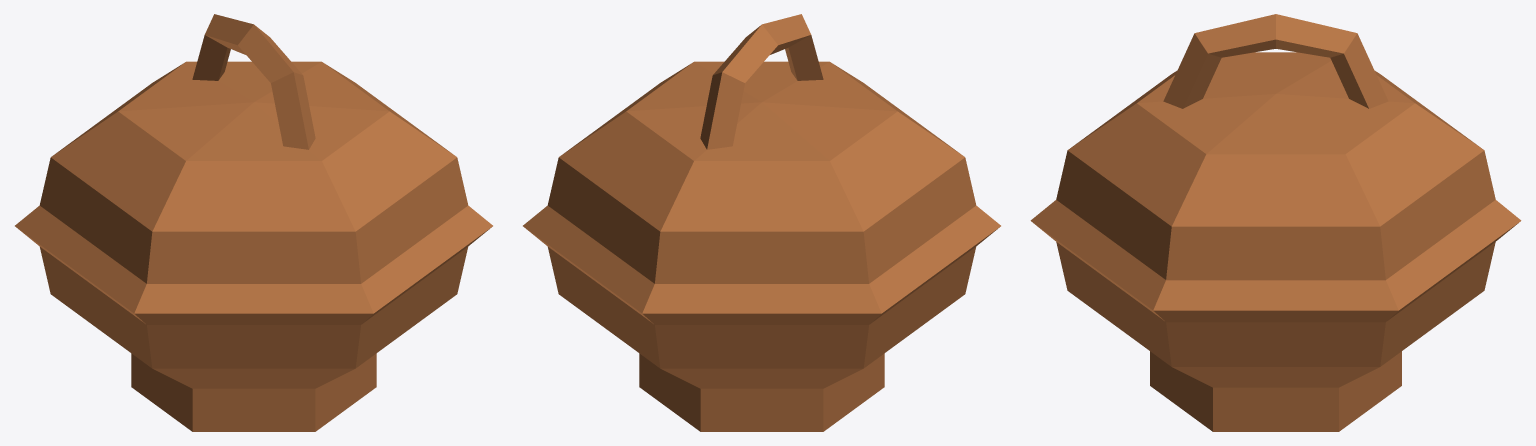
File: SM_Prop_Copper_Pot_Small_01.glb
3 views of the same model, side by side, from view 1: azimuth 30°, elevation 25°; view 2: azimuth 150°, elevation 25°; view 3: azimuth 270°, elevation 25° (orthographic). The views are drawn at different scales.
Parts seen in each view (by area): view 1: SM_Prop_Copper_Pot_Small_01; view 2: SM_Prop_Copper_Pot_Small_01; view 3: SM_Prop_Copper_Pot_Small_01.
Boxes of the visible parts, x1=… form: SM_Prop_Copper_Pot_Small_01: x1=15, y1=14, x2=492, y2=431; SM_Prop_Copper_Pot_Small_01: x1=523, y1=14, x2=1000, y2=431; SM_Prop_Copper_Pot_Small_01: x1=1030, y1=14, x2=1521, y2=431.
Bounding box in the file's own units: 0.6337 × 0.6113 × 0.7317.
Materials: 1 (1 with a texture image).
